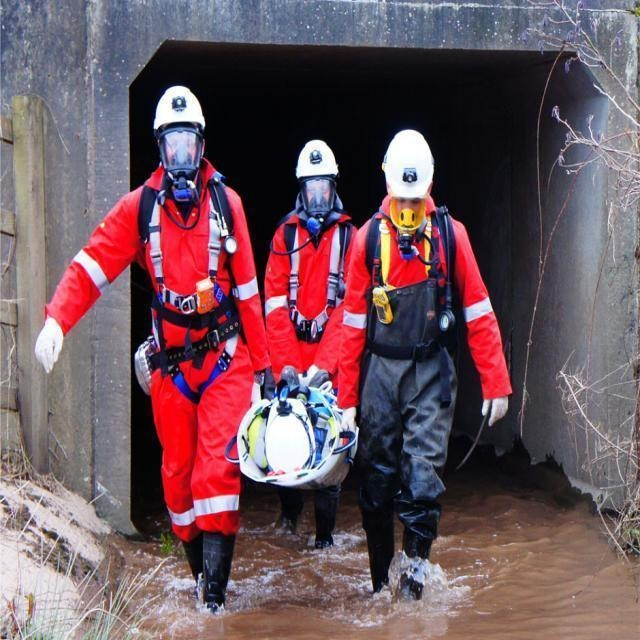Arnes_seguridad: (136, 170, 247, 404)
